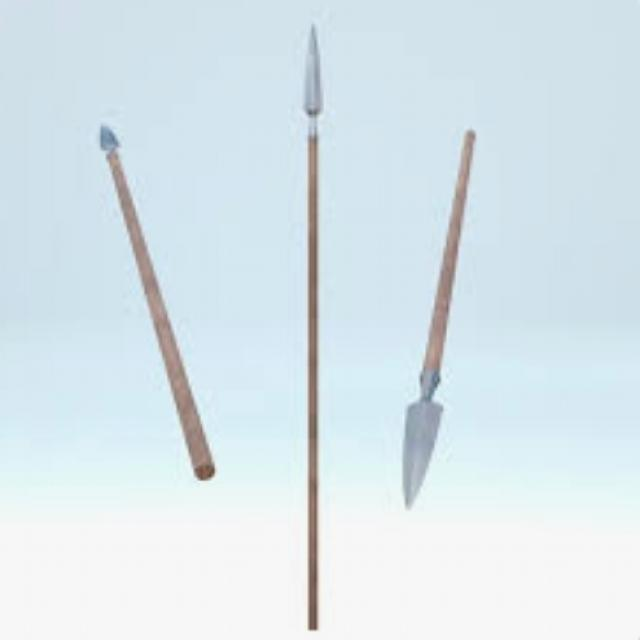spear: (78, 109, 238, 485), (390, 110, 516, 512), (282, 19, 356, 628)
